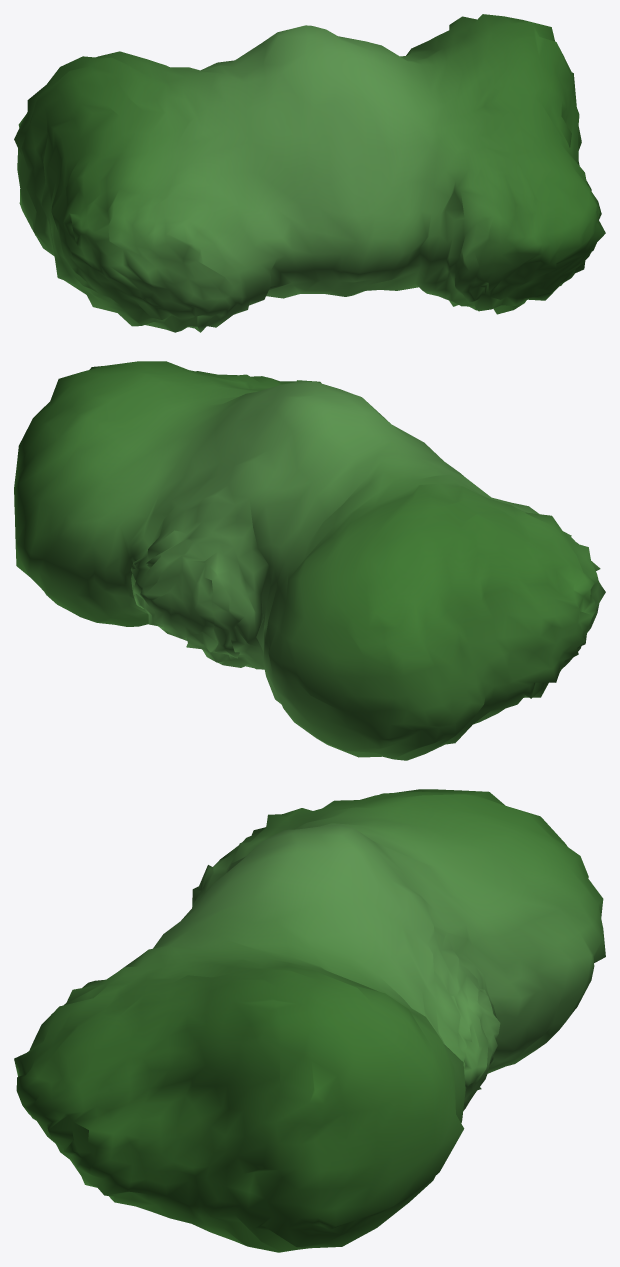
Rendered from Underbrush.fbx.
The picture shows the model from 3 angles, top to bottom: view 1: azimuth 30°, elevation 25°; view 2: azimuth 150°, elevation 25°; view 3: azimuth 270°, elevation 25°; orthographic projection. The views are drawn at different scales.
Parts seen in each view (by area): view 1: Cube.004; view 2: Cube.004; view 3: Cube.004.
Part boxes in pixels (x1,y1,x2,y2): Cube.004: (14, 14, 605, 332); Cube.004: (14, 361, 605, 760); Cube.004: (14, 789, 605, 1252).
Size of the model in its own units: 37207 by 18266 by 31280.
Materials: 1 (1 with a texture image).
